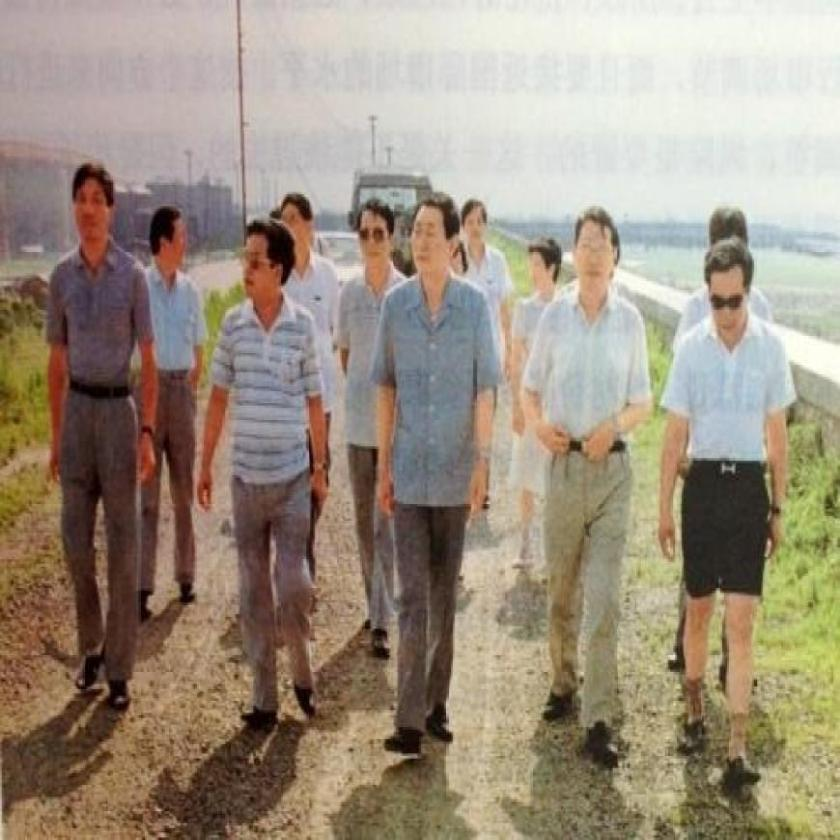Sin_casco: (234, 215, 297, 341), (701, 239, 757, 352), (571, 201, 624, 308), (62, 156, 121, 250), (410, 188, 465, 282), (356, 194, 400, 282), (148, 205, 193, 272), (525, 231, 565, 299), (462, 194, 492, 257)
